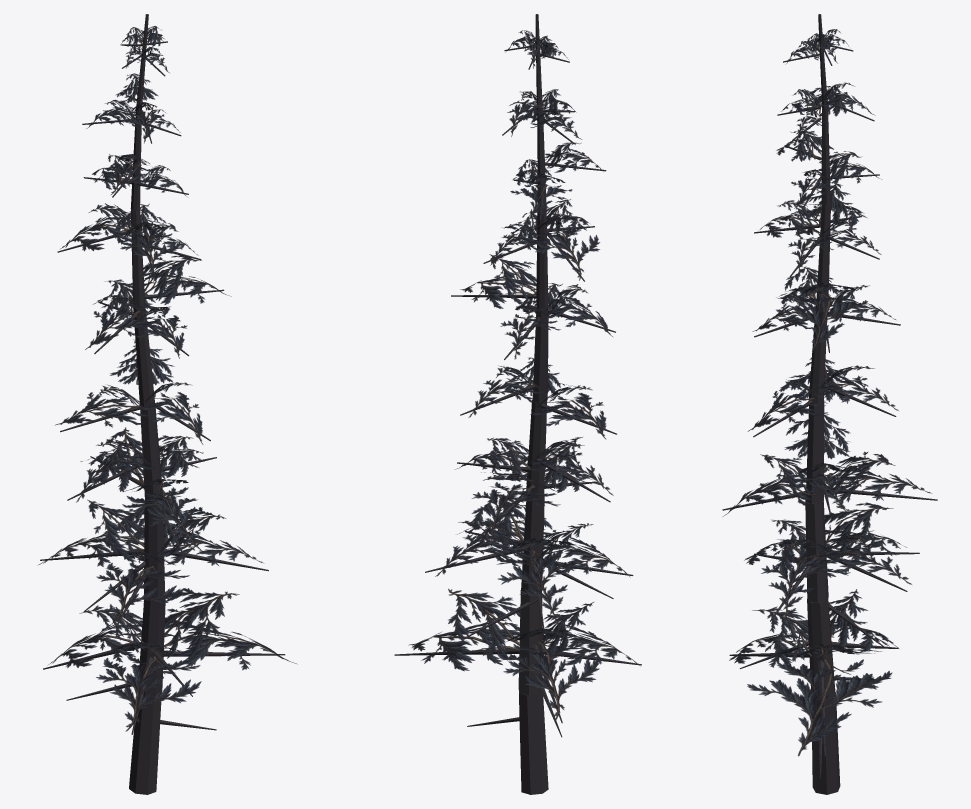
Rendered from conifer-spire.glb.
The picture shows the model from 3 angles, left to right: view 1: azimuth 30°, elevation 25°; view 2: azimuth 150°, elevation 25°; view 3: azimuth 270°, elevation 25°; orthographic projection.
Visible parts, largest first — view 1: conifer-spire; view 2: conifer-spire; view 3: conifer-spire.
Part boxes in pixels (left/top/right/bottom): conifer-spire: left=38, top=14, right=297, bottom=794; conifer-spire: left=394, top=14, right=641, bottom=794; conifer-spire: left=722, top=14, right=937, bottom=794.
Size of the model in its own units: 2.08 by 6.33 by 1.97.
Materials: 2 (1 with a texture image).
